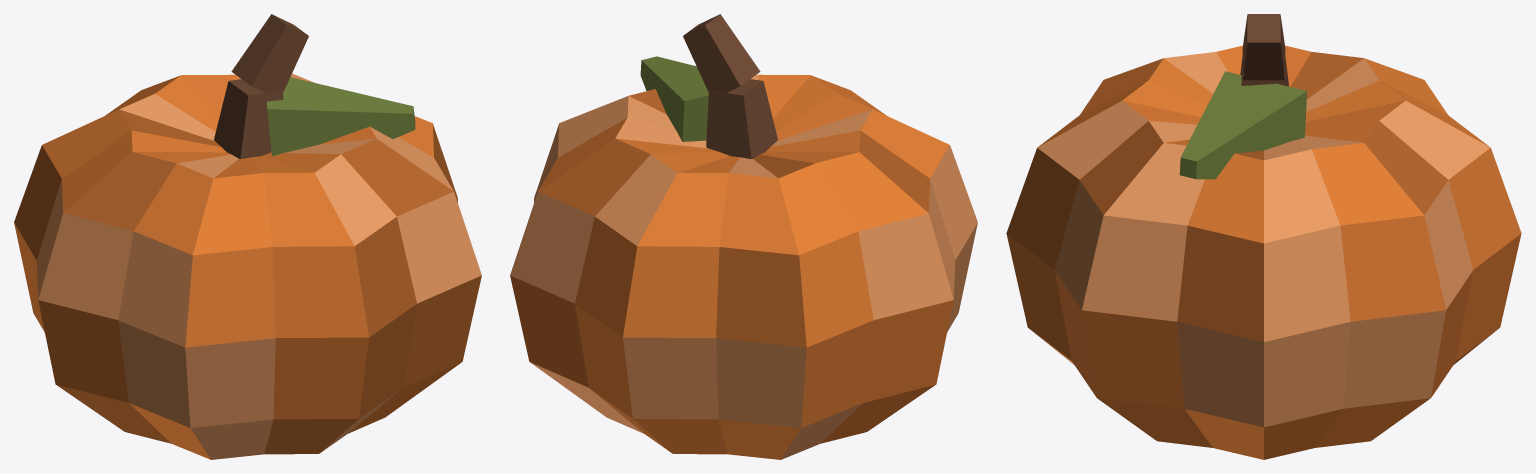
Rendered from SM_Snack_Pumpkin.fbx.
3 views of the same model, side by side, from view 1: azimuth 30°, elevation 25°; view 2: azimuth 150°, elevation 25°; view 3: azimuth 270°, elevation 25° (orthographic). The views are drawn at different scales.
Parts seen in each view (by area): view 1: SM_Snack_Pumpkin; view 2: SM_Snack_Pumpkin; view 3: SM_Snack_Pumpkin.
Boxes of the visible parts, bbox=[...] form: SM_Snack_Pumpkin: bbox=[14, 14, 481, 459]; SM_Snack_Pumpkin: bbox=[510, 14, 977, 459]; SM_Snack_Pumpkin: bbox=[1006, 14, 1521, 459].
Bounding box in the file's own units: 1.09 × 0.9299 × 1.09.
